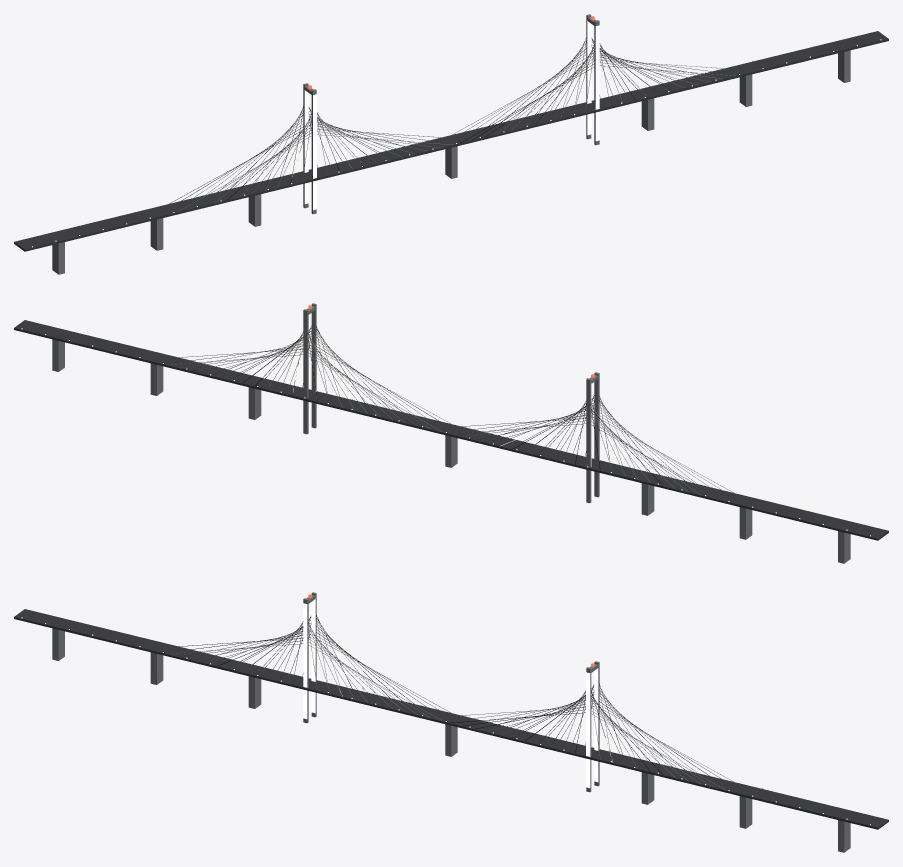
File: lit_bridge_far.glb
3 renders of one model, top to bottom at view 1: azimuth 30°, elevation 25°; view 2: azimuth 150°, elevation 25°; view 3: azimuth 330°, elevation 25°, orthographic.
Visible parts, largest first — view 1: lit_bridge_far; view 2: lit_bridge_far; view 3: lit_bridge_far.
Boxes of the visible parts, x1,y1,x2,y2 form: lit_bridge_far: (14, 14, 888, 274); lit_bridge_far: (14, 303, 888, 563); lit_bridge_far: (14, 592, 888, 852).
Bounding box in the file's own units: 1100 × 152 × 24.
1 material, 1 textured.
